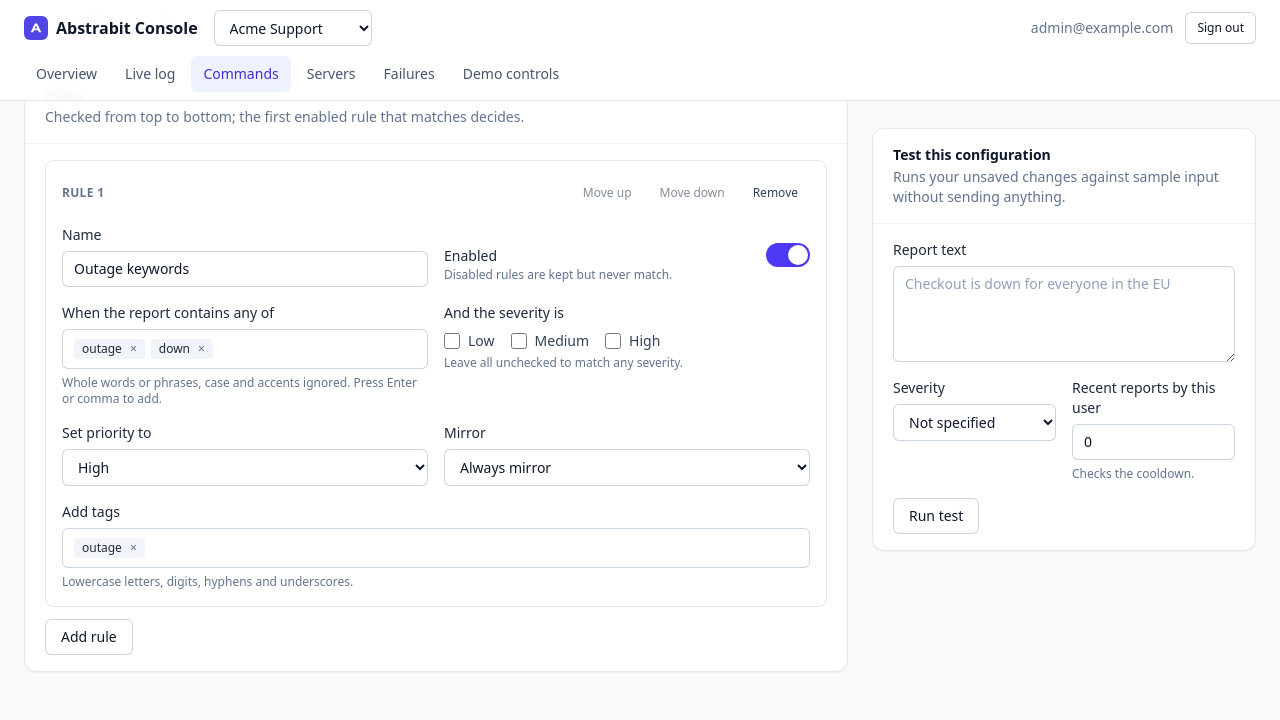
Test: command configuration › blocks saving an invalid rule and shows the error next to it
(page scrolled)
Click the button "Add rule" at (89, 637), box x1=45 y1=619 x2=133 y2=655
(page scrolled)
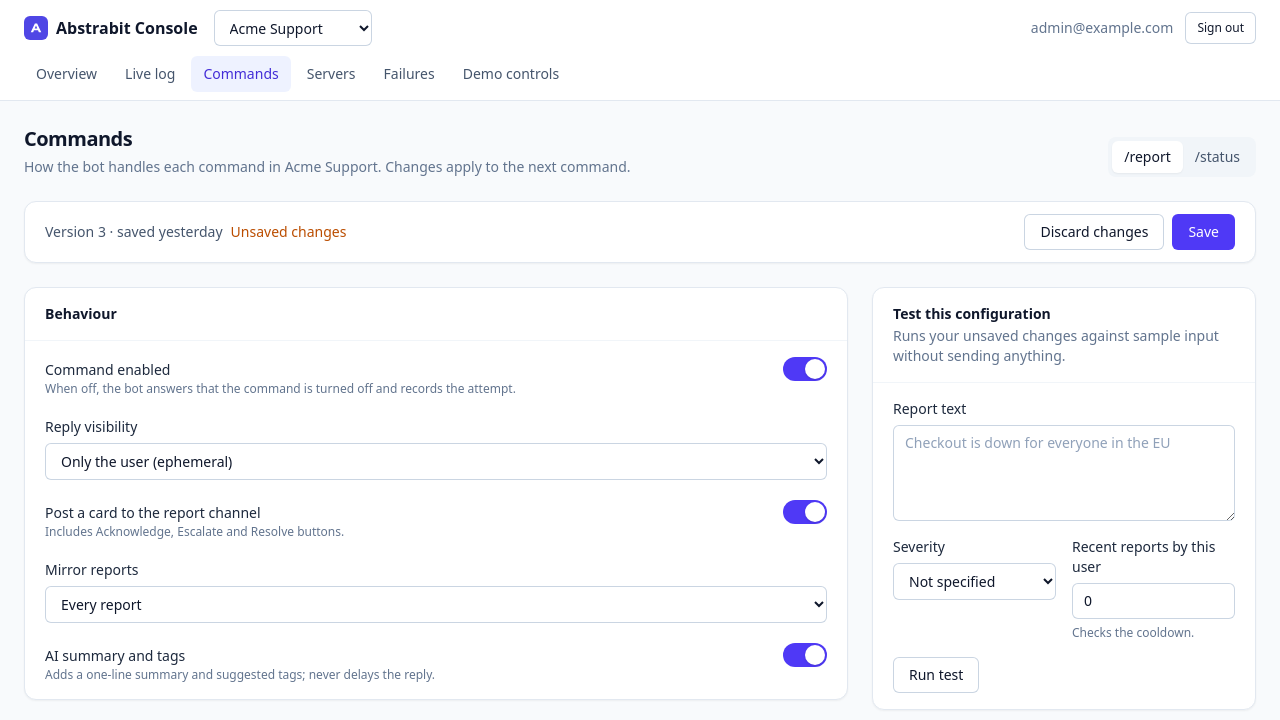
Click the button "Save" at (1204, 232), box x1=1172 y1=214 x2=1235 y2=250
(page scrolled)
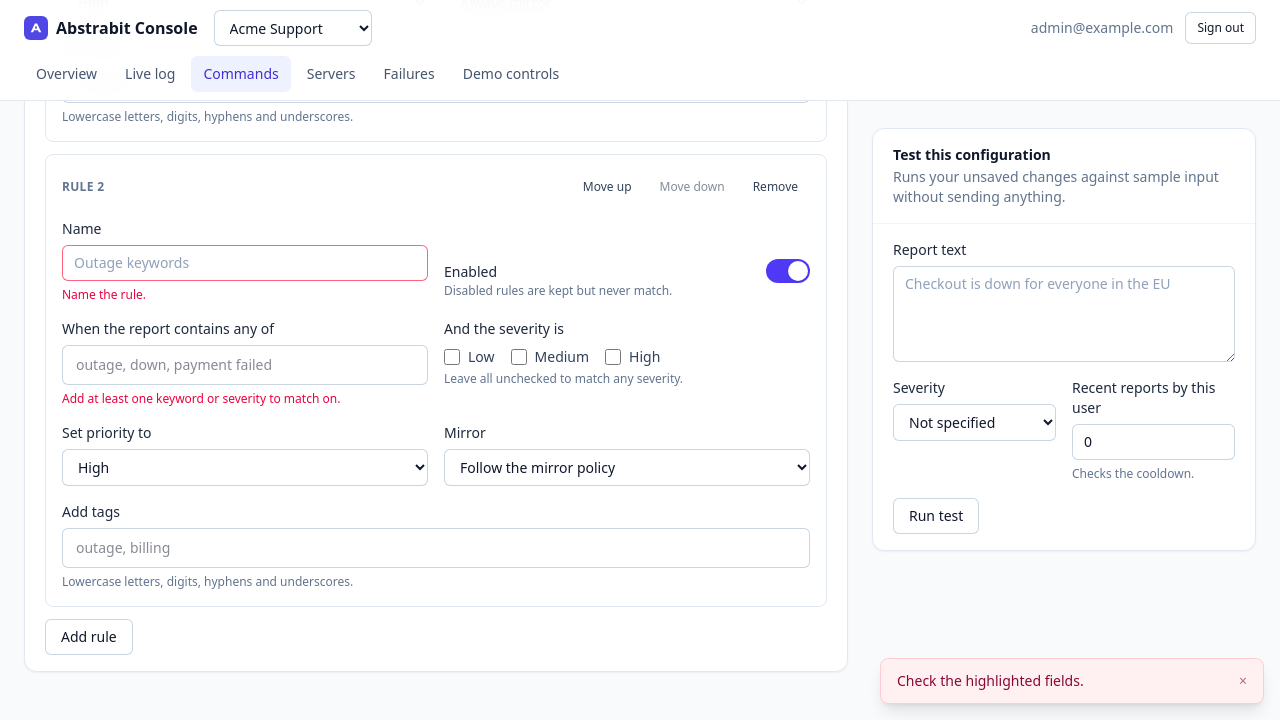
Now the text "Name the rule." is shown, box x1=62 y1=286 x2=146 y2=303
Now the text "Add at least one keyword or severity to match on." is shown, box x1=62 y1=390 x2=340 y2=407
